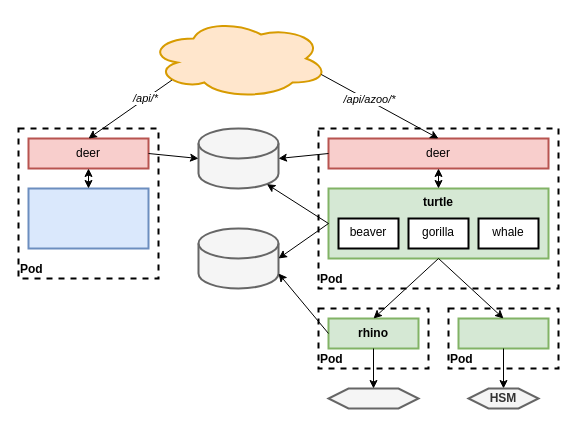
Image size: 576x426. Some labels were removed from this diagram. The centre of each missing label's shape, as x and y in pixels:
"Database" belongs at [238,258].
"dragon" belongs at [503,333].
"etcd" belongs at [238,158].
"Ingress-Proxy" belongs at [238,58].
"Trillian" belongs at [373,398].
"Your Application" belongs at [88,218].
